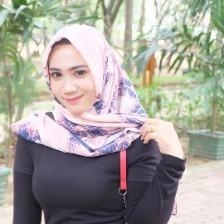Non Syar-i: (10, 21, 153, 160)
